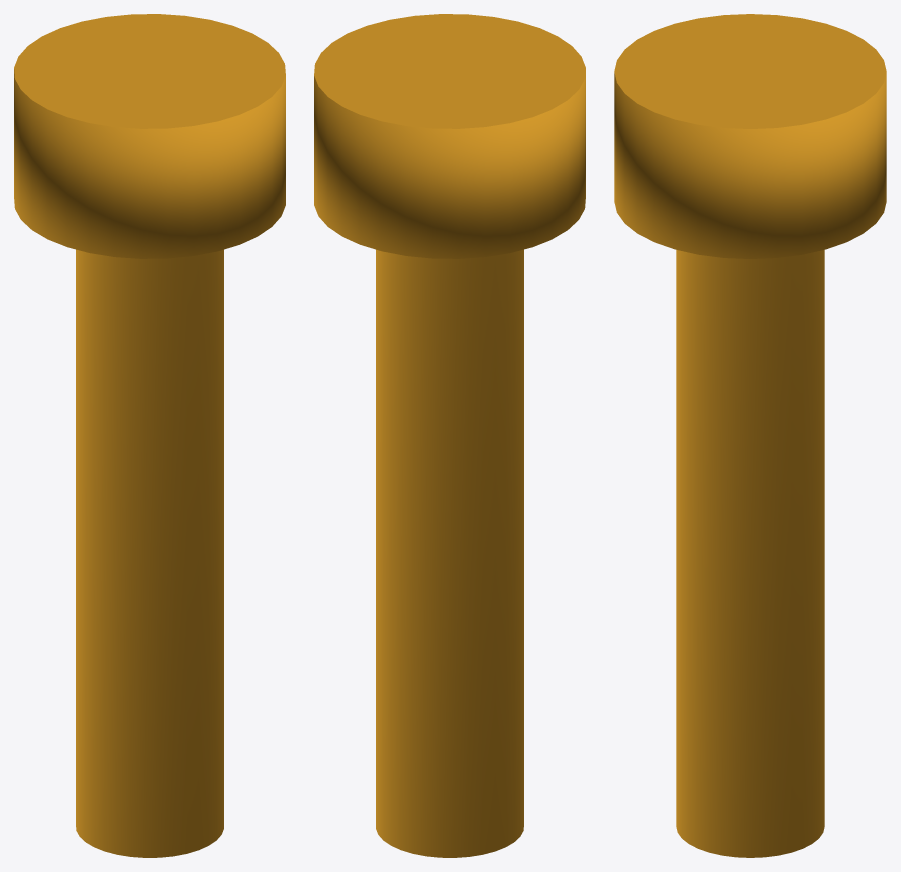
File: chair_rotete_feet.fbx
The picture shows the model from 3 angles, left to right: view 1: azimuth 30°, elevation 25°; view 2: azimuth 150°, elevation 25°; view 3: azimuth 270°, elevation 25°; orthographic projection.
Parts seen in each view (by area): view 1: chair_rotate_feet; view 2: chair_rotate_feet; view 3: chair_rotate_feet.
Boxes of the visible parts, <box> form: chair_rotate_feet: <box>14,14,285,857</box>; chair_rotate_feet: <box>314,14,585,857</box>; chair_rotate_feet: <box>614,14,886,857</box>.
Size of the model in its own units: 19 by 58.1 by 19.
